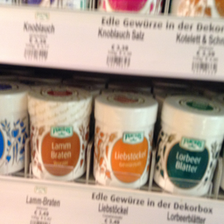spices: (153, 95, 223, 195), (93, 92, 158, 190), (26, 84, 93, 179)
